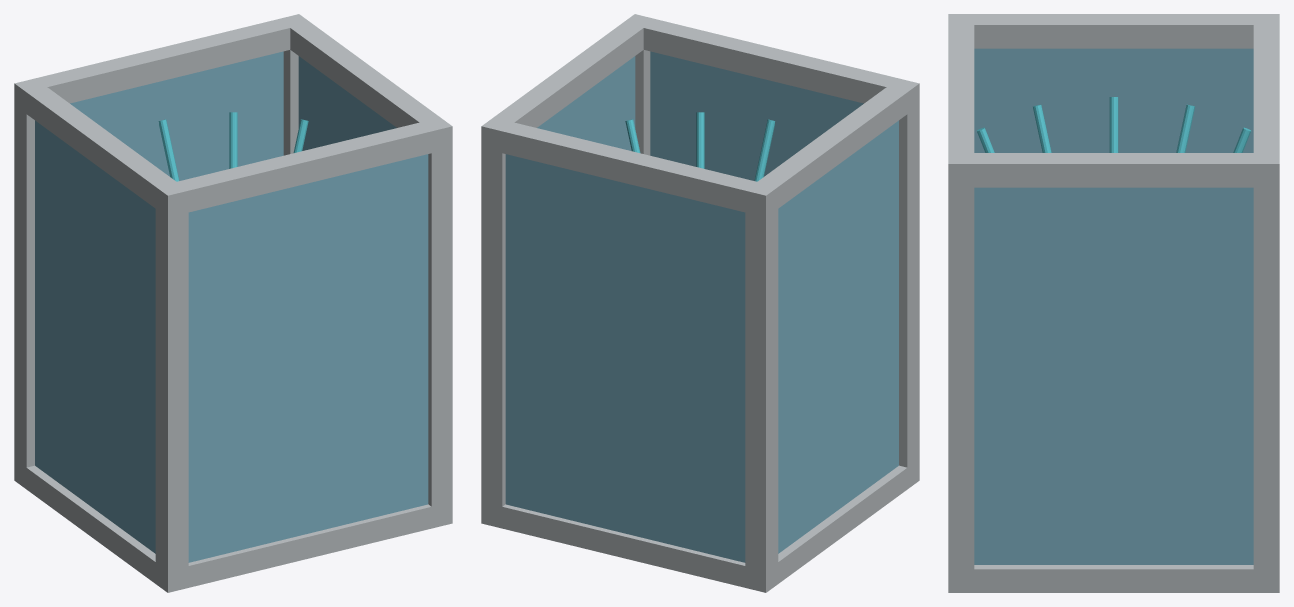
Rendered from 49_L76_PostPlatingWaferRinseChamber.glb.
3 renders of one model, left to right at view 1: azimuth 30°, elevation 25°; view 2: azimuth 150°, elevation 25°; view 3: azimuth 270°, elevation 25°, orthographic. The views are drawn at different scales.
Visible parts, largest first — view 1: PostPlatingWaferRinseChamber_Node_0013, PostPlatingWaferRinseChamber_Node_0014, PostPlatingWaferRinseChamber_Node_0012, PostPlatingWaferRinseChamber_Node_0001, PostPlatingWaferRinseChamber_Node_0003, PostPlatingWaferRinseChamber_Node_0009, PostPlatingWaferRinseChamber_Node_0008, PostPlatingWaferRinseChamber_Node_0000, PostPlatingWaferRinseChamber_Node_0005, PostPlatingWaferRinseChamber_Node_0010, PostPlatingWaferRinseChamber_Node_0011, PostPlatingWaferRinseChamber_Node_0015 (+2 smaller); view 2: PostPlatingWaferRinseChamber_Node_0012, PostPlatingWaferRinseChamber_Node_0014, PostPlatingWaferRinseChamber_Node_0013, PostPlatingWaferRinseChamber_Node_0000, PostPlatingWaferRinseChamber_Node_0002, PostPlatingWaferRinseChamber_Node_0008, PostPlatingWaferRinseChamber_Node_0009, PostPlatingWaferRinseChamber_Node_0001, PostPlatingWaferRinseChamber_Node_0004, PostPlatingWaferRinseChamber_Node_0010, PostPlatingWaferRinseChamber_Node_0011, PostPlatingWaferRinseChamber_Node_0015 (+2 smaller); view 3: PostPlatingWaferRinseChamber_Node_0015, PostPlatingWaferRinseChamber_Node_0014, PostPlatingWaferRinseChamber_Node_0002, PostPlatingWaferRinseChamber_Node_0003, PostPlatingWaferRinseChamber_Node_0011, PostPlatingWaferRinseChamber_Node_0010, PostPlatingWaferRinseChamber_Node_0007, PostPlatingWaferRinseChamber_Node_0008, PostPlatingWaferRinseChamber_Node_0009, PostPlatingWaferRinseChamber_Node_0005, PostPlatingWaferRinseChamber_Node_0004, PostPlatingWaferRinseChamber_Node_0108 (+2 smaller).
Part boxes in pixels (x1,y1,x2,y2): PostPlatingWaferRinseChamber_Node_0013: (188, 154, 428, 562); PostPlatingWaferRinseChamber_Node_0014: (35, 120, 155, 553); PostPlatingWaferRinseChamber_Node_0012: (70, 51, 283, 180); PostPlatingWaferRinseChamber_Node_0001: (155, 182, 188, 592); PostPlatingWaferRinseChamber_Node_0003: (420, 117, 452, 524); PostPlatingWaferRinseChamber_Node_0009: (155, 118, 451, 216); PostPlatingWaferRinseChamber_Node_0008: (14, 14, 306, 112); PostPlatingWaferRinseChamber_Node_0000: (14, 78, 46, 489); PostPlatingWaferRinseChamber_Node_0005: (155, 503, 451, 592); PostPlatingWaferRinseChamber_Node_0010: (14, 79, 188, 217); PostPlatingWaferRinseChamber_Node_0011: (280, 14, 452, 147); PostPlatingWaferRinseChamber_Node_0015: (298, 56, 396, 150); PostPlatingWaferRinseChamber_Node_0012: (505, 154, 745, 562); PostPlatingWaferRinseChamber_Node_0014: (778, 120, 898, 553); PostPlatingWaferRinseChamber_Node_0013: (650, 51, 863, 180); PostPlatingWaferRinseChamber_Node_0000: (745, 182, 778, 592); PostPlatingWaferRinseChamber_Node_0002: (481, 118, 512, 524); PostPlatingWaferRinseChamber_Node_0008: (481, 121, 778, 217); PostPlatingWaferRinseChamber_Node_0009: (623, 14, 919, 113); PostPlatingWaferRinseChamber_Node_0001: (890, 78, 919, 489); PostPlatingWaferRinseChamber_Node_0004: (484, 503, 778, 592); PostPlatingWaferRinseChamber_Node_0010: (745, 79, 919, 215); PostPlatingWaferRinseChamber_Node_0011: (482, 14, 652, 148); PostPlatingWaferRinseChamber_Node_0015: (537, 56, 635, 150); PostPlatingWaferRinseChamber_Node_0015: (974, 187, 1253, 564); PostPlatingWaferRinseChamber_Node_0014: (974, 48, 1253, 152); PostPlatingWaferRinseChamber_Node_0002: (1253, 153, 1279, 592); PostPlatingWaferRinseChamber_Node_0003: (948, 153, 974, 592); PostPlatingWaferRinseChamber_Node_0011: (948, 153, 1279, 187); PostPlatingWaferRinseChamber_Node_0010: (948, 14, 1279, 48); PostPlatingWaferRinseChamber_Node_0007: (948, 565, 1279, 592); PostPlatingWaferRinseChamber_Node_0008: (1253, 14, 1279, 187); PostPlatingWaferRinseChamber_Node_0009: (948, 14, 974, 187); PostPlatingWaferRinseChamber_Node_0005: (948, 569, 974, 592); PostPlatingWaferRinseChamber_Node_0004: (1253, 569, 1279, 592); PostPlatingWaferRinseChamber_Node_0108: (1109, 97, 1118, 152).
Size of the model in its own units: 1.5 by 2 by 1.4.
